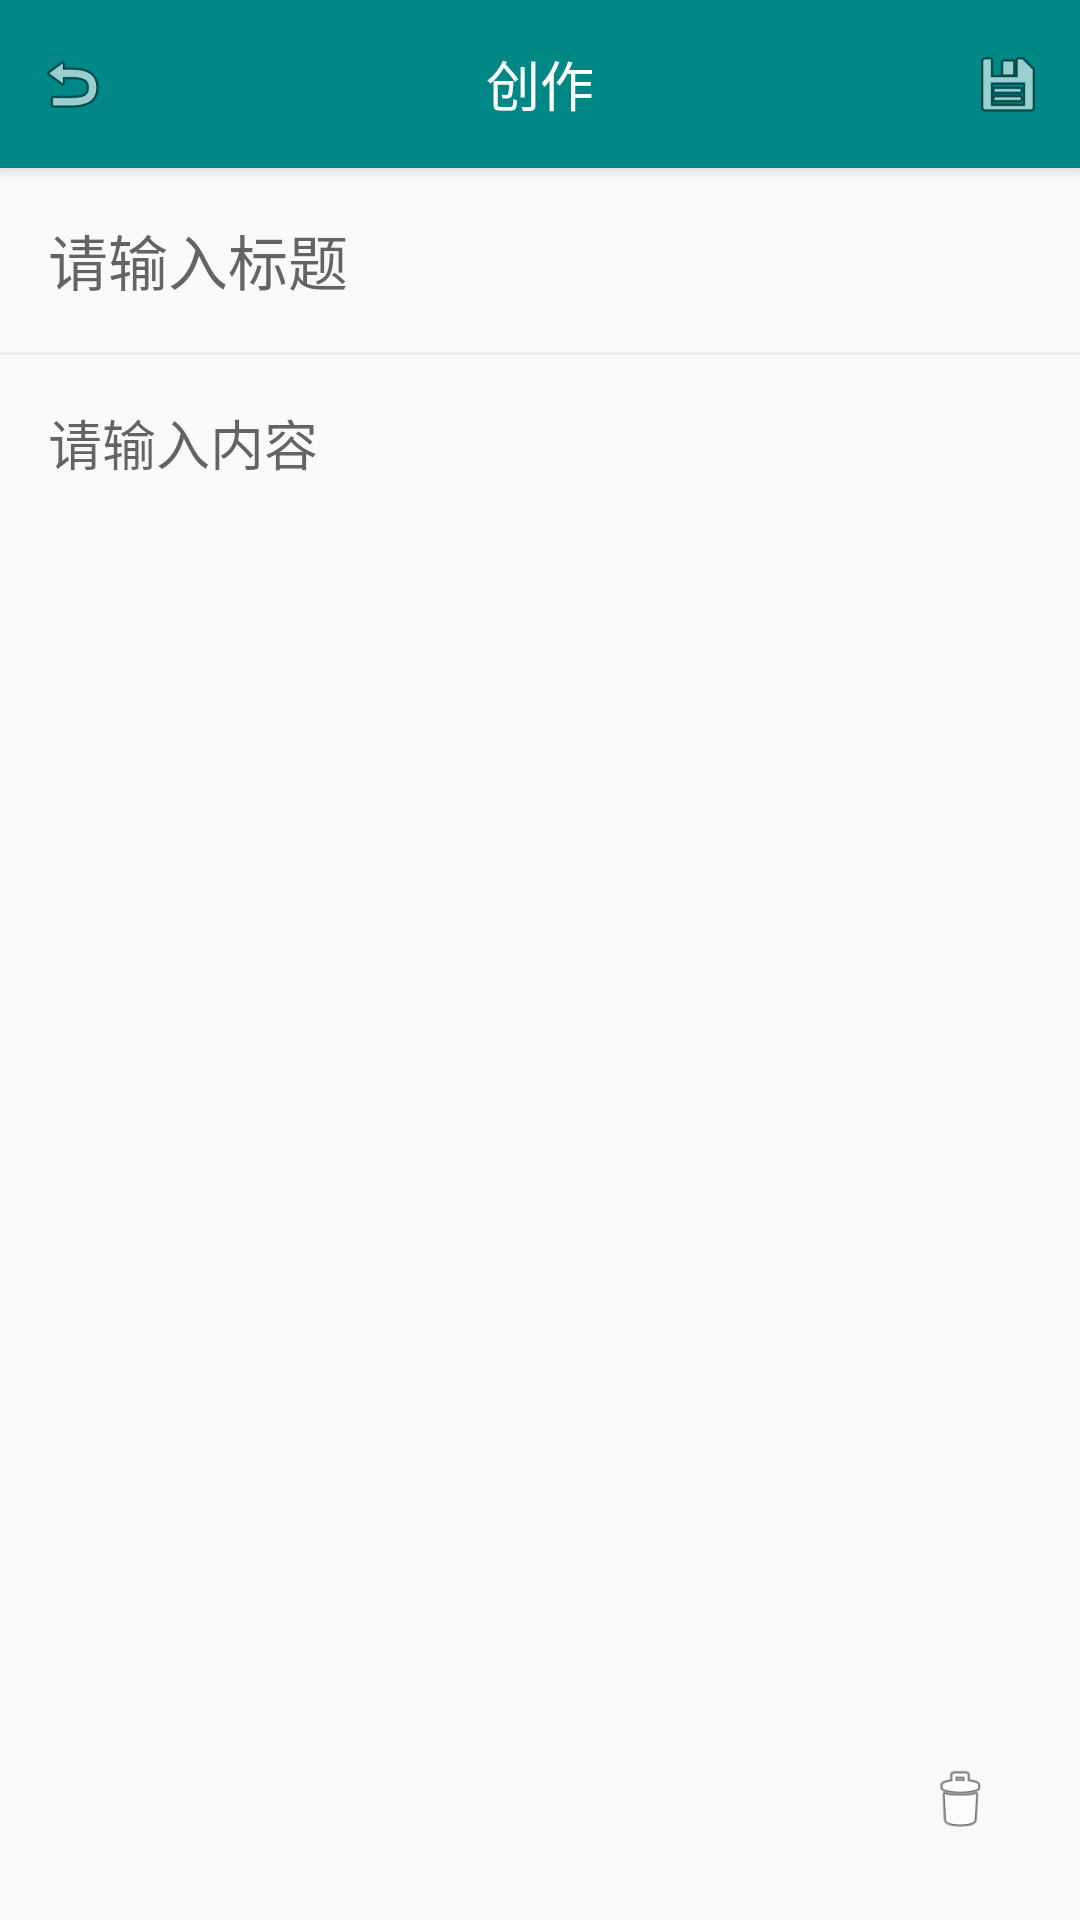

Locate icon controls on the screen. Image size 1080×1920, boxes as BBox(x1, y1, x2, y2).
delete: BBox(940, 1771, 981, 1827)
revert: BBox(47, 61, 99, 108)
save: BBox(981, 57, 1035, 112)
